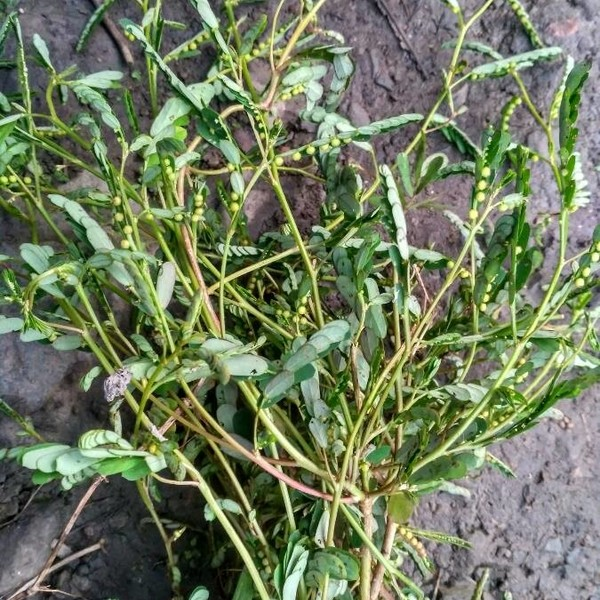obstacle: (57, 58, 505, 541)
